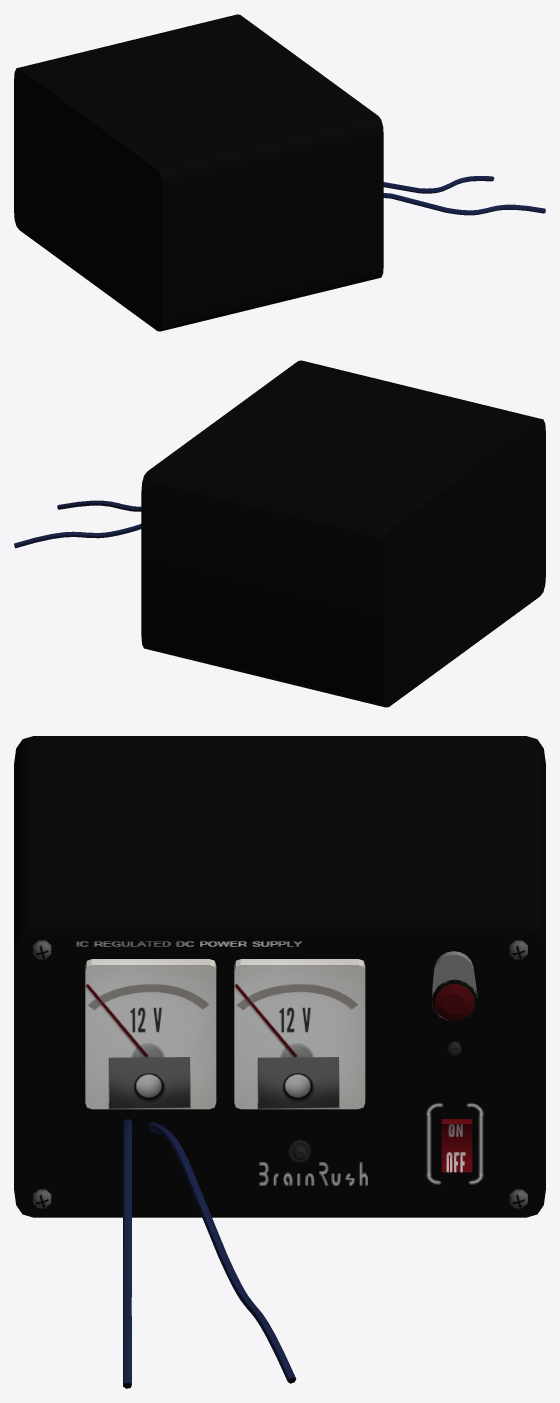
Rendered from CarBattery.fbx.
3 renders of one model, top to bottom at view 1: azimuth 30°, elevation 25°; view 2: azimuth 150°, elevation 25°; view 3: azimuth 270°, elevation 25°, orthographic. The views are drawn at different scales.
Parts seen in each view (by area): view 1: CarBattery; view 2: CarBattery; view 3: CarBattery.
Part boxes in pixels (x1=…): CarBattery: x1=14, y1=14, x2=545, y2=331; CarBattery: x1=14, y1=360, x2=545, y2=707; CarBattery: x1=14, y1=736, x2=545, y2=1388.
Size of the model in its own units: 6.06 by 2.29 by 3.77.
